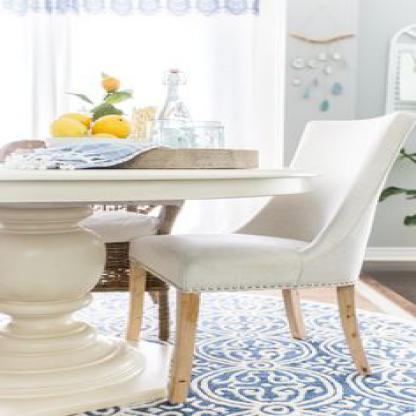chair: (116, 103, 416, 413)
table: (0, 129, 309, 416)
